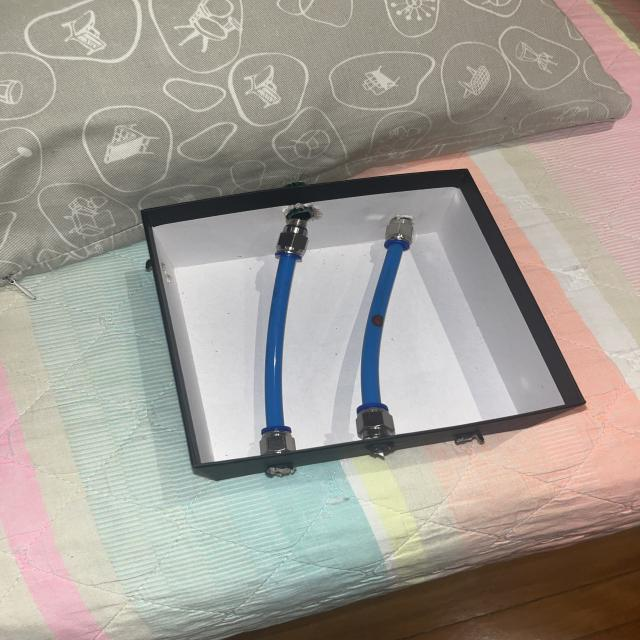hose_damage: (370, 313, 384, 329)
